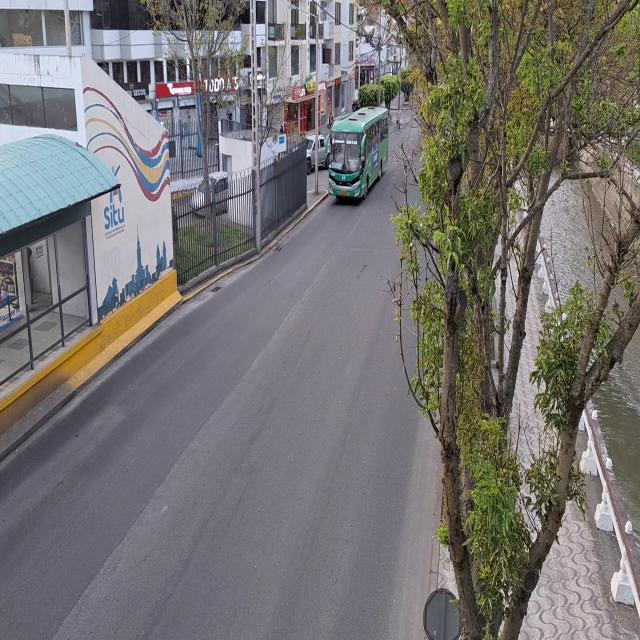BUS: (329, 112, 388, 205)
